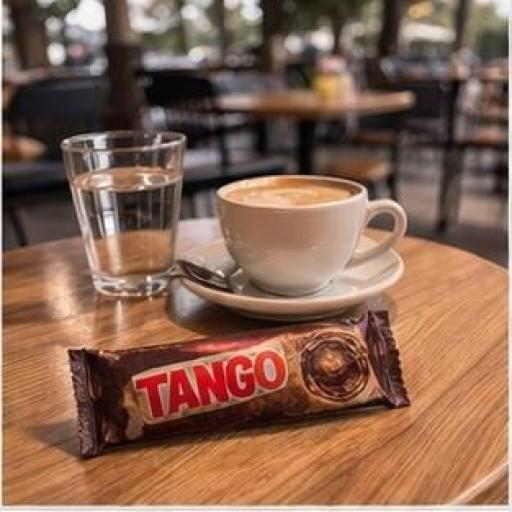tango: (58, 325, 446, 479)
